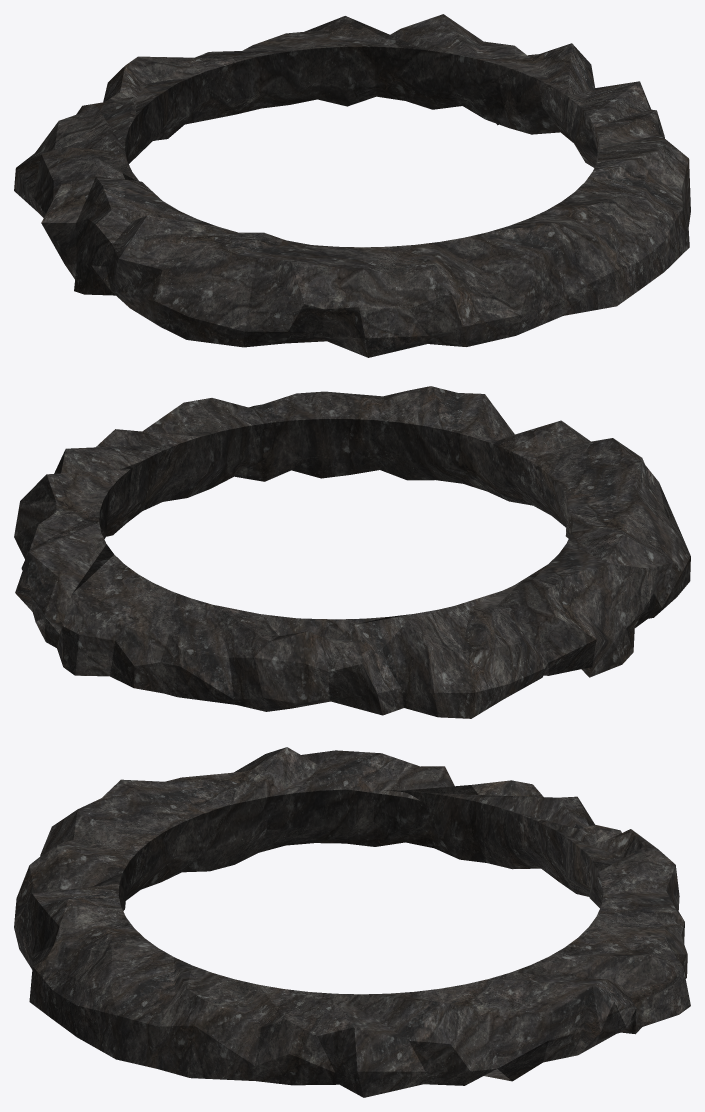
File: surroundings.gltf
The picture shows the model from 3 angles, top to bottom: view 1: azimuth 30°, elevation 25°; view 2: azimuth 150°, elevation 25°; view 3: azimuth 270°, elevation 25°; orthographic projection. The views are drawn at different scales.
Parts seen in each view (by area): view 1: Spooky_Tower_Rocks_Base_Art; view 2: Spooky_Tower_Rocks_Base_Art; view 3: Spooky_Tower_Rocks_Base_Art.
Part boxes in pixels (<box>): Spooky_Tower_Rocks_Base_Art: <box>14,14,690,357</box>; Spooky_Tower_Rocks_Base_Art: <box>14,386,690,718</box>; Spooky_Tower_Rocks_Base_Art: <box>14,747,690,1097</box>.
Bounding box in the file's own units: 13.43 × 2.28 × 13.31.
Materials: 1 (1 with a texture image).
